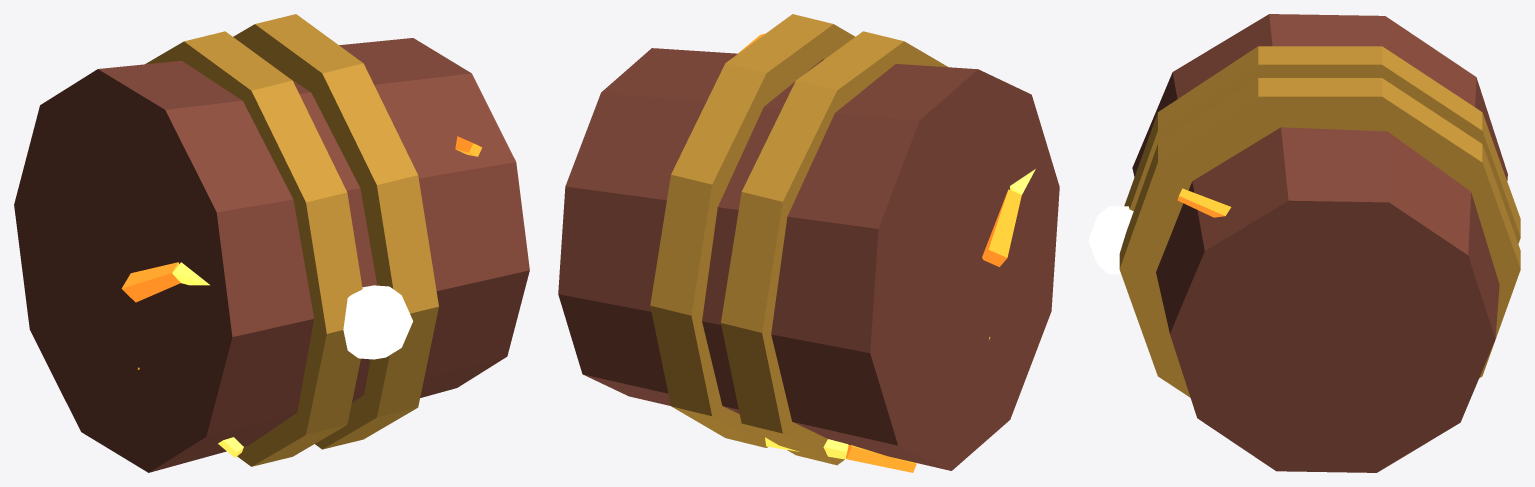
The model's file is ember_queen_arm_l.glb.
The picture shows the model from 3 angles, left to right: view 1: azimuth 30°, elevation 25°; view 2: azimuth 150°, elevation 25°; view 3: azimuth 270°, elevation 25°; orthographic projection. The views are drawn at different scales.
Parts seen in each view (by area): view 1: ember_queen_arm_l; view 2: ember_queen_arm_l; view 3: ember_queen_arm_l.
Part boxes in pixels (x1,y1,x2,y2): ember_queen_arm_l: (14,14,529,472); ember_queen_arm_l: (558,14,1059,472); ember_queen_arm_l: (1088,14,1520,472).
Size of the model in its own units: 0.2993 by 0.3072 by 0.345.
